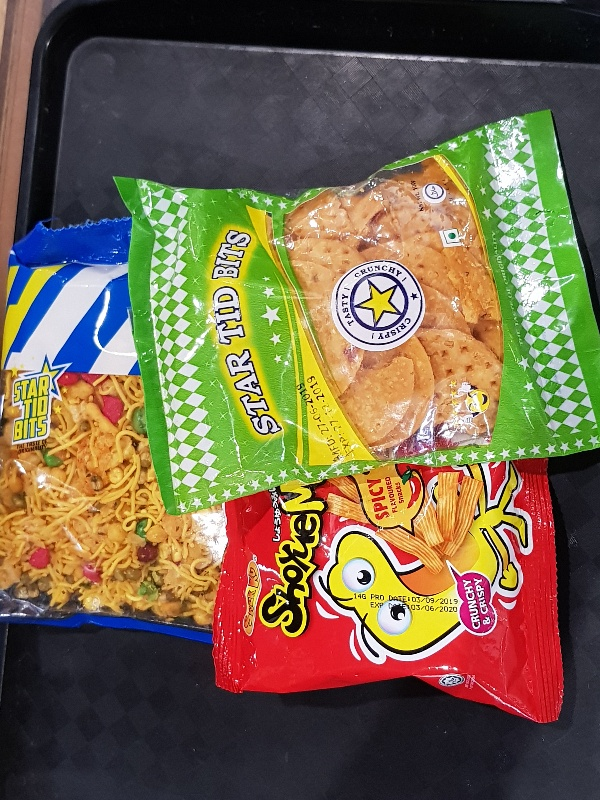ShoyueMi Spicy Flavoured Snacks: (211, 458, 565, 725)
Star Tidbits 'O' Ring: (109, 107, 600, 518)
Star Tidbits Mixer: (2, 219, 226, 641)
